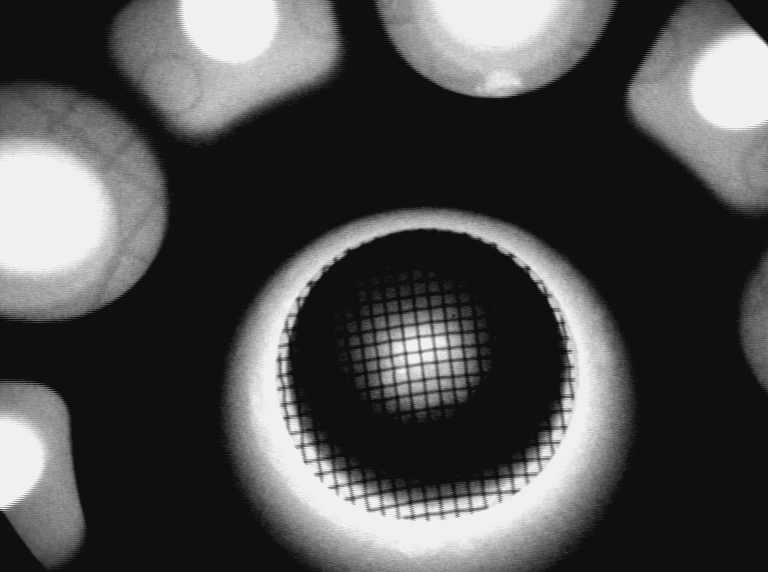defect: (473, 67, 522, 104)
